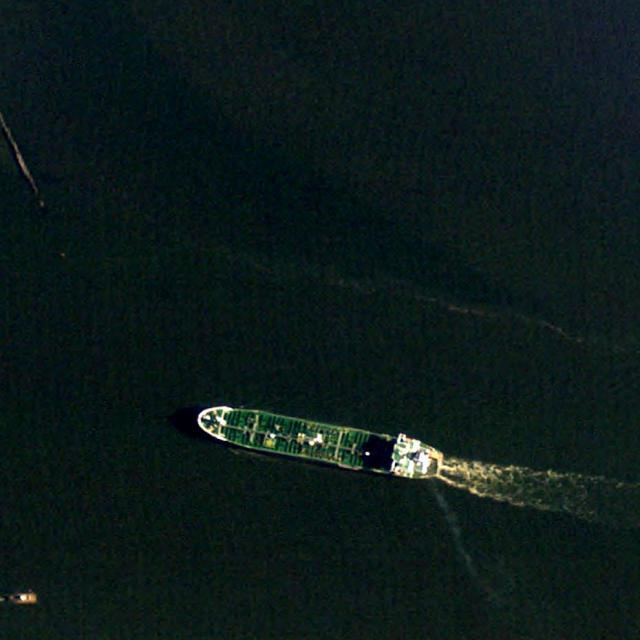Oil Tanker: (192, 396, 448, 484)
